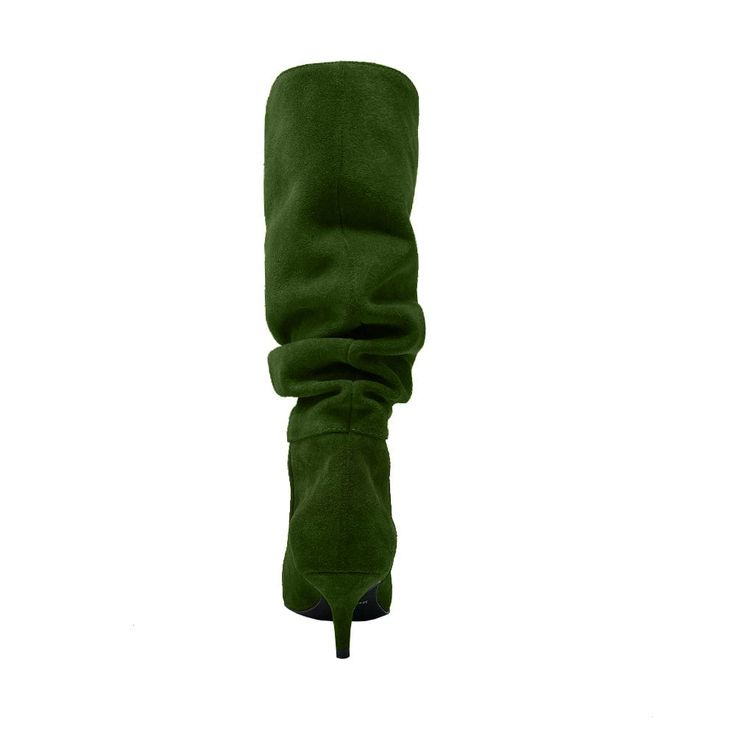gamuza: (265, 61, 427, 658)
